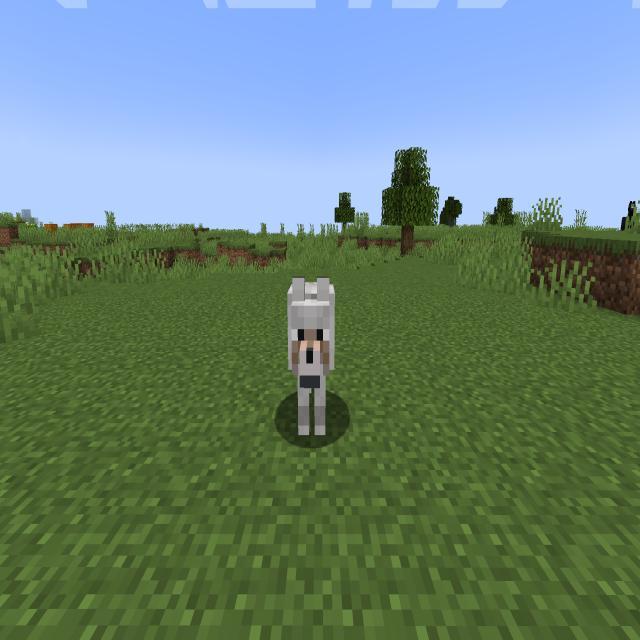Wolf: (275, 261, 349, 460)
